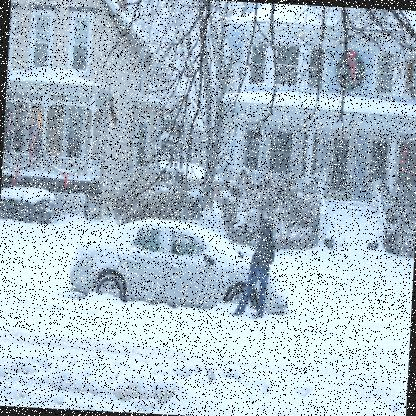Car: (66, 211, 262, 314)
